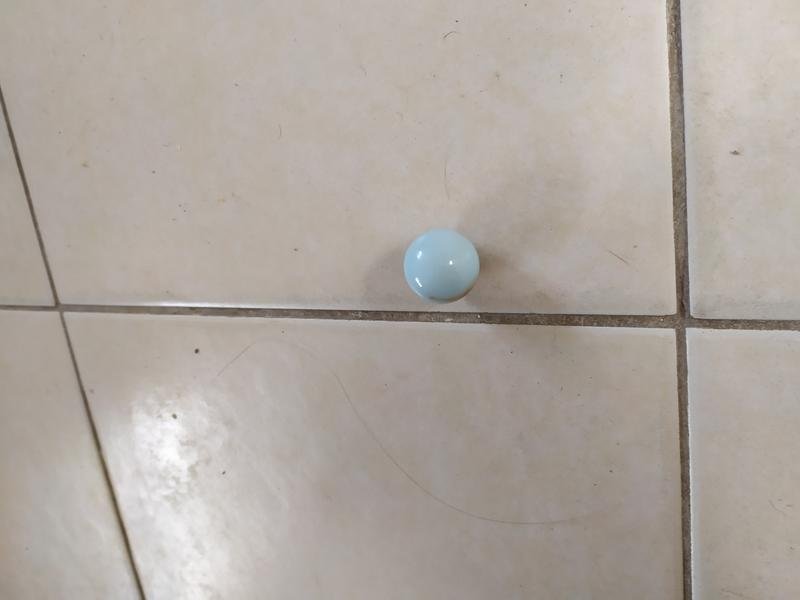Warning: (399, 223, 484, 307)
